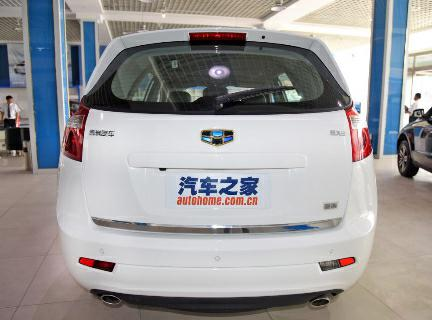吉利汽车-豪情SUV: (47, 21, 386, 313)
